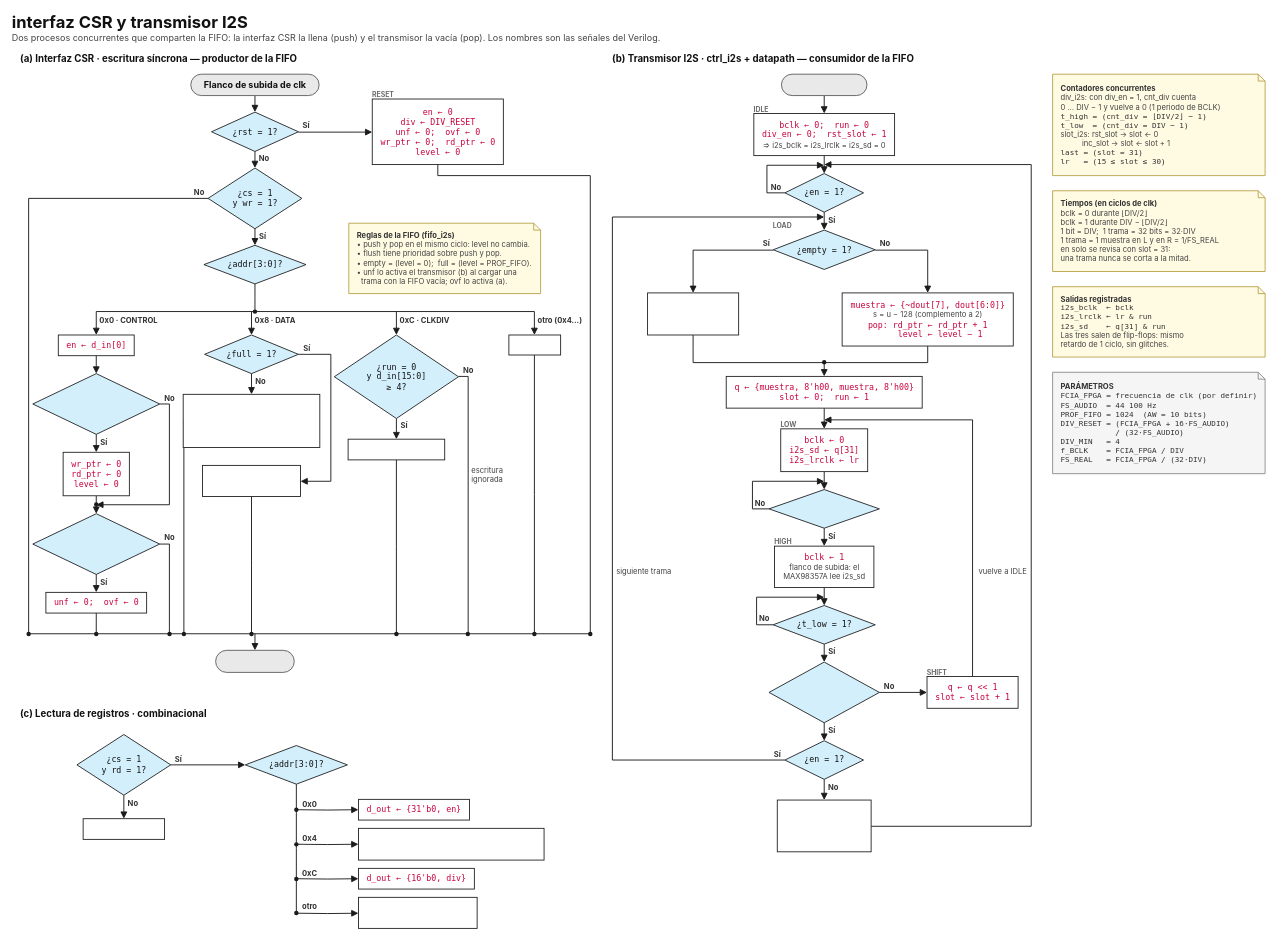
The diagram is 1277 pixels wide and 940 high, and some of its shapes have lost their labels. Each missing label, with the centre of its shape:
"d_out ← 32'b0" belongs at [123,829].
"d_out ← 32'b0 DATA (0x8) es solo escritura" belongs at [417,913].
"d_out ← {11'b0, run, ovf, unf, full, empty, 5'b0, level}" belongs at [451,844].
"div ← d_in[15:0]" belongs at [396,449].
"Fin del ciclo" belongs at [254,661].
"Inicio (rst = 1)" belongs at [824,84].
"muestra ← 8'h00 (silencio) unf ← 1" belongs at [693,313].
"ovf ← 1 la muestra se descarta" belongs at [251,481].
"push: FIFO[wr_ptr] ← d_in[7:0] wr_ptr ← wr_ptr + 1 level ← level + 1" belongs at [251,421].
"run ← 0 señal de terminación: transmisor detenido al final de la trama" belongs at [824,825].
"sin efecto" belongs at [534,344].
"¿d_in[1] = 1? (FLUSH)" belongs at [96,403].
"¿d_in[2] = 1? (CLR_ERR)" belongs at [96,544].
"¿last = 1? (slot = 31)" belongs at [824,692].
"¿t_high = 1?" belongs at [824,508].
